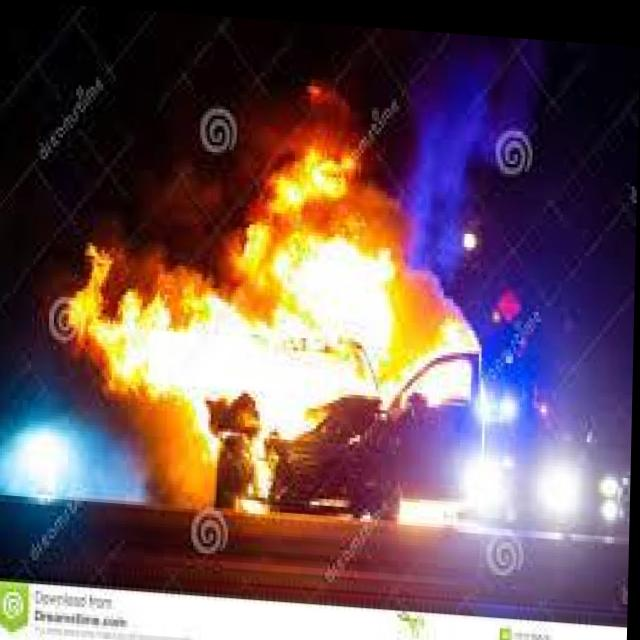fire: (68, 127, 486, 486)
